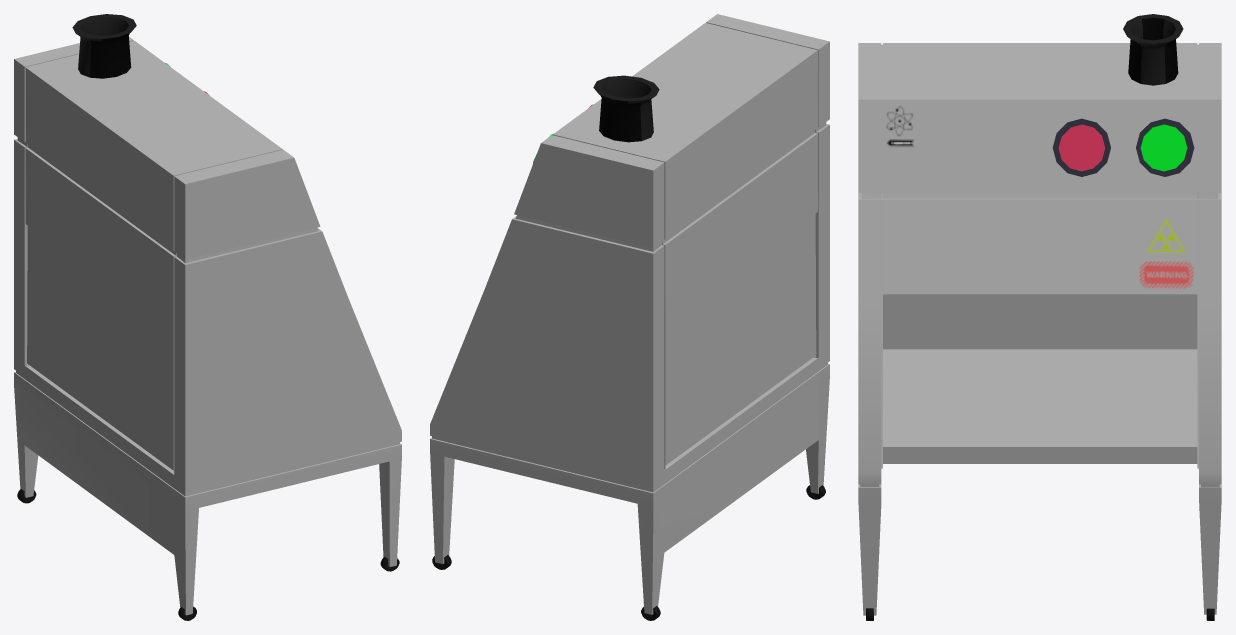
Rendered from spawner.fbx.
The picture shows the model from 3 angles, left to right: view 1: azimuth 30°, elevation 25°; view 2: azimuth 150°, elevation 25°; view 3: azimuth 270°, elevation 25°; orthographic projection. The views are drawn at different scales.
Visible parts, largest first — view 1: Lab_Machine; view 2: Lab_Machine; view 3: Lab_Machine, Cilindro.003, Cilindro.005, Cilindro.004, Cilindro.002.
Boxes of the visible parts, left/top/right/bottom form: Lab_Machine: left=14, top=14, right=401, bottom=620; Lab_Machine: left=430, top=14, right=829, bottom=620; Lab_Machine: left=858, top=14, right=1221, bottom=620; Cilindro.003: left=1058, top=124, right=1105, bottom=171; Cilindro.005: left=1140, top=124, right=1187, bottom=171; Cilindro.004: left=1052, top=118, right=1110, bottom=176; Cilindro.002: left=1136, top=118, right=1194, bottom=176.
Size of the model in its own units: 0.8524 by 1.8 by 1.16.
